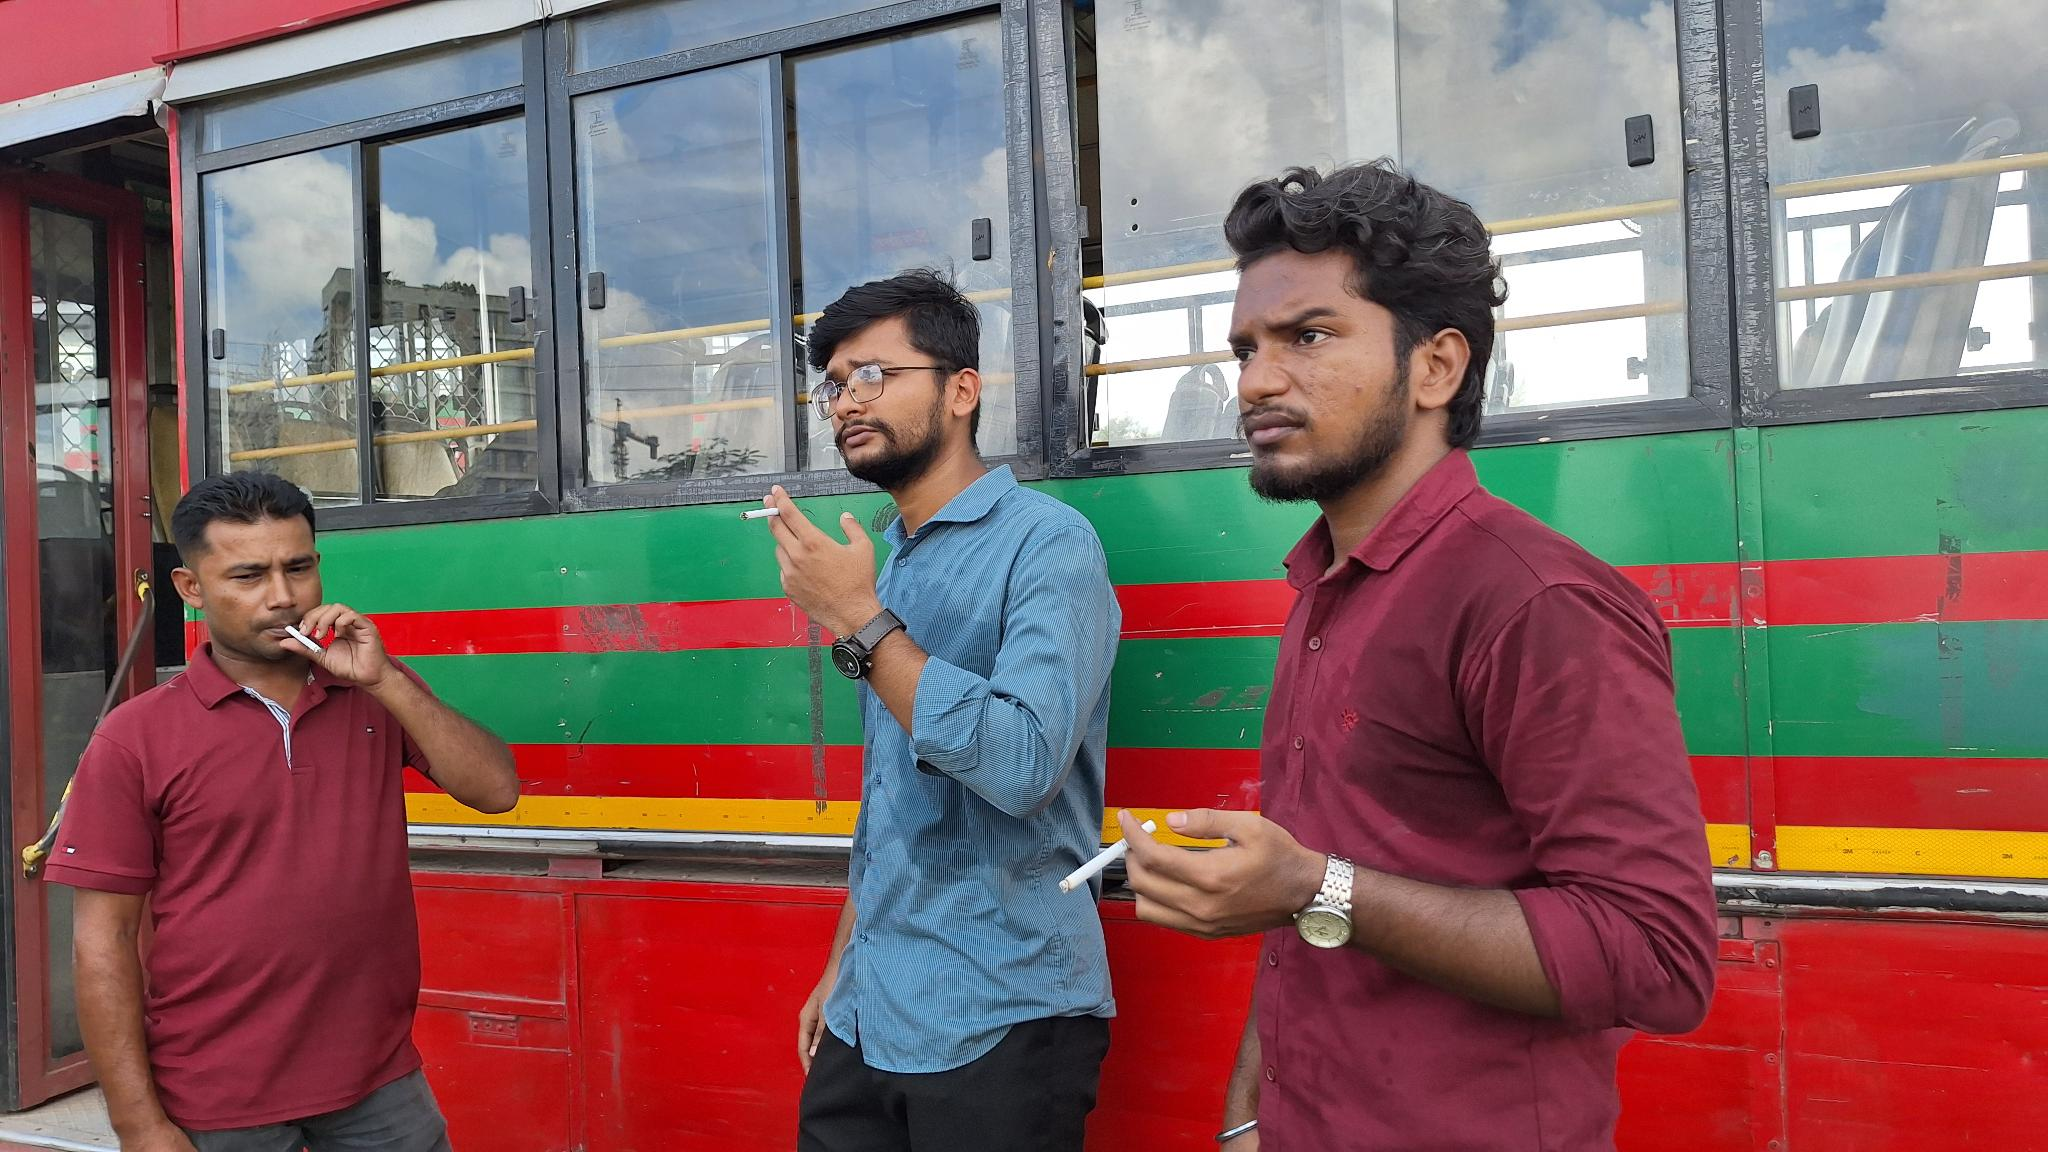cigarette: (1055, 819, 1159, 899), (283, 623, 325, 657), (738, 506, 782, 525)
smoker: (1118, 163, 1722, 1152), (42, 470, 522, 1152), (761, 270, 1124, 1152)
